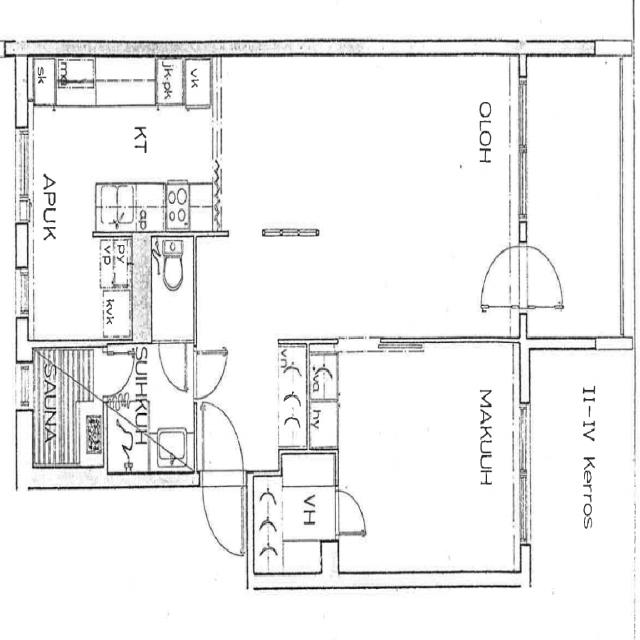door: (202, 402, 242, 486), (202, 471, 242, 554), (485, 246, 529, 305), (520, 246, 563, 305), (193, 351, 224, 398), (159, 340, 186, 389), (335, 490, 363, 533), (103, 353, 132, 393)
